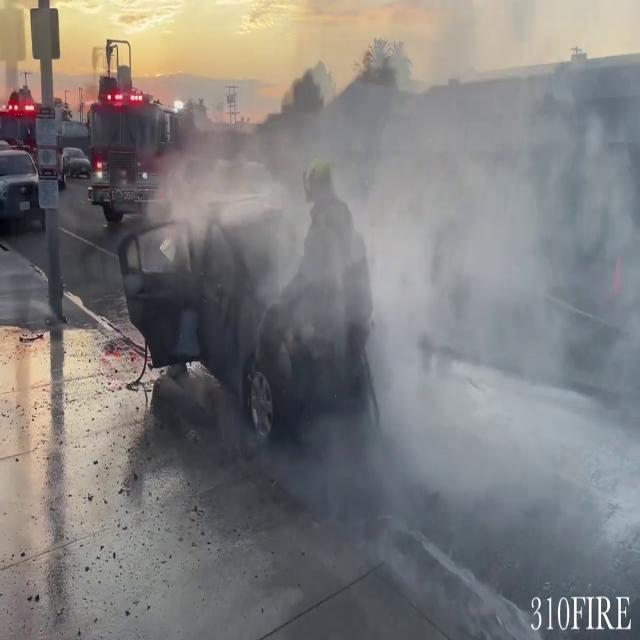Smoke: (162, 2, 640, 514)
